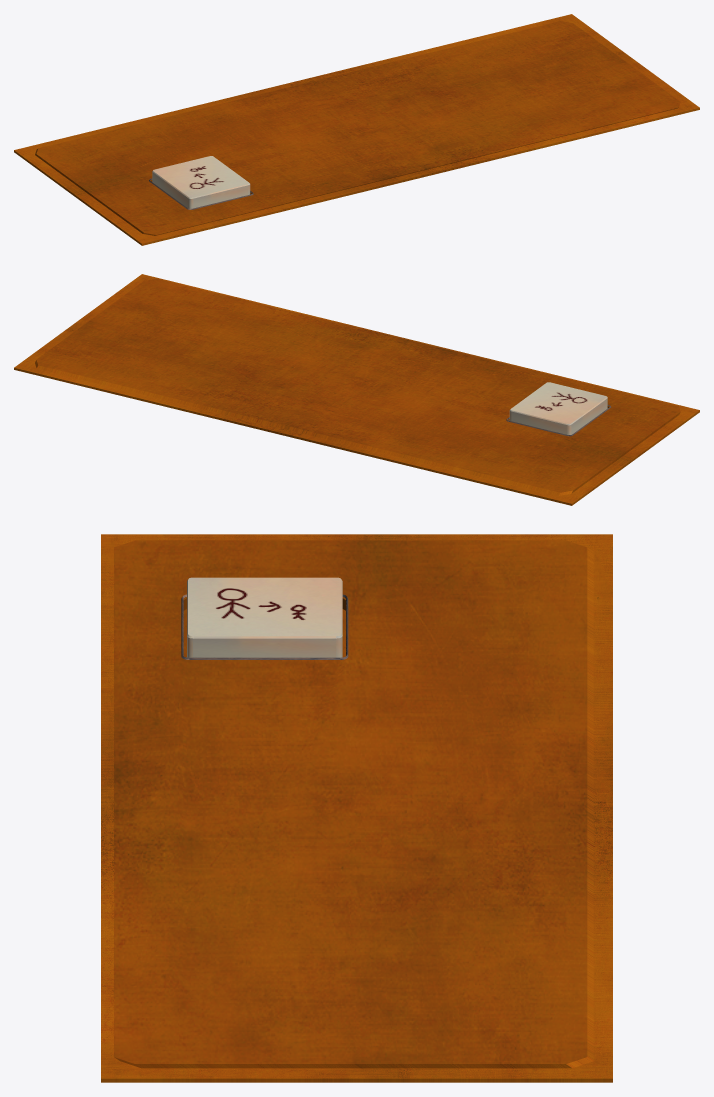
Rendered from button_box_1.FBX.
3 views of the same model, one above another, from view 1: azimuth 30°, elevation 25°; view 2: azimuth 150°, elevation 25°; view 3: azimuth 270°, elevation 25° (orthographic). The views are drawn at different scales.
Parts seen in each view (by area): view 1: 底面, Box043; view 2: 底面, Box043; view 3: 底面, Box043, Object017.
Boxes of the visible parts, x1=… form: 底面: x1=14, y1=14, x2=699, y2=245; Box043: x1=152, y1=156, x2=250, y2=208; 底面: x1=14, y1=274, x2=699, y2=505; Box043: x1=509, y1=382, x2=607, y2=434; 底面: x1=101, y1=534, x2=612, y2=1082; Box043: x1=187, y1=577, x2=342, y2=657; Object017: x1=181, y1=594, x2=348, y2=659.
Size of the model in its own units: 434 by 12.41 by 172.
Materials: 7 (7 with a texture image).
